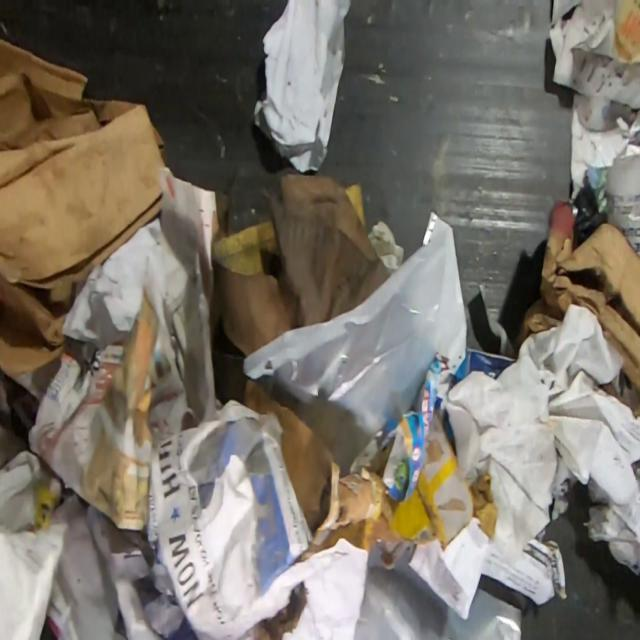cardboard: (512, 198, 639, 395), (386, 412, 475, 552)
soft_plastic: (241, 208, 468, 435), (355, 566, 522, 639)
